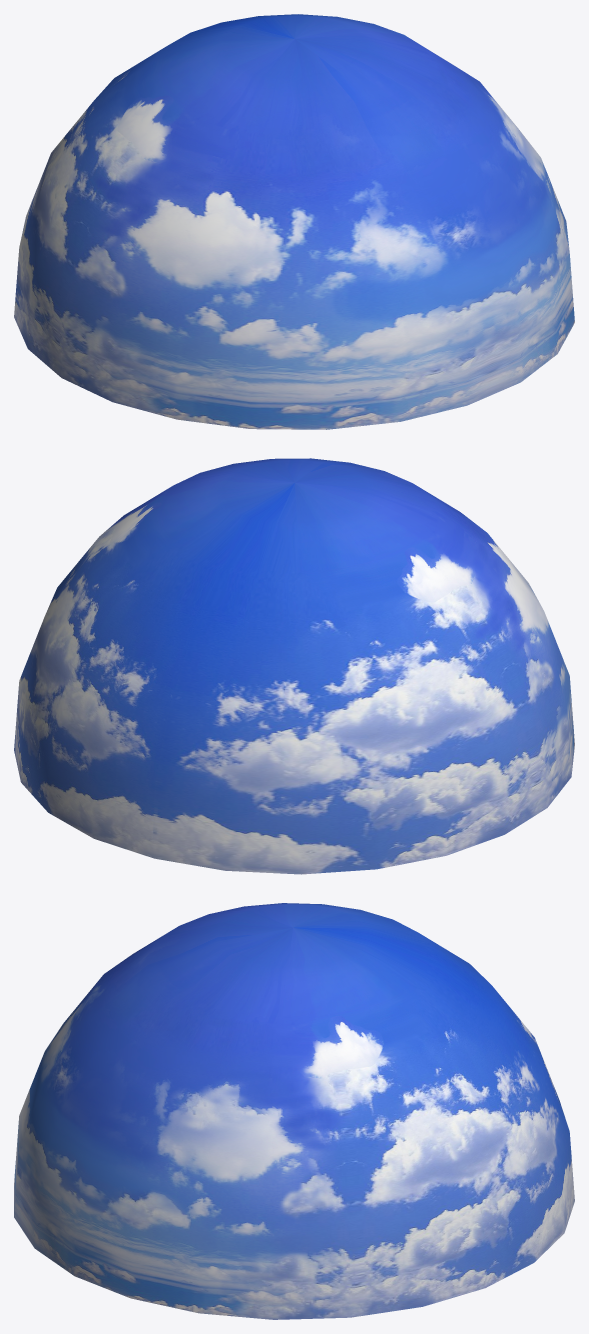
The model's file is sky1.FBX.
3 renders of one model, top to bottom at view 1: azimuth 30°, elevation 25°; view 2: azimuth 150°, elevation 25°; view 3: azimuth 270°, elevation 25°, orthographic.
Visible parts, largest first — view 1: Sphere01; view 2: Sphere01; view 3: Sphere01.
Boxes of the visible parts, box(x1,y1,x2,y2) form: Sphere01: box(14, 14, 574, 429); Sphere01: box(14, 458, 574, 874); Sphere01: box(14, 903, 574, 1319).
Bounding box in the file's own units: 597 × 596 × 320.
1 material, 1 textured.
